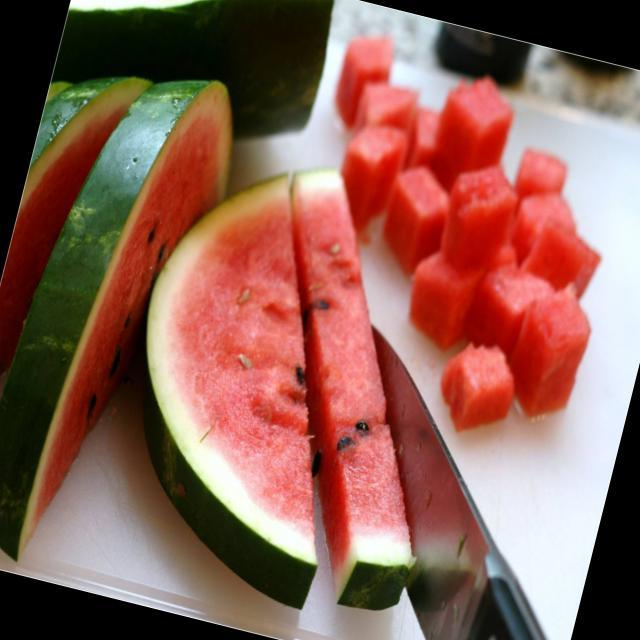APPLE: (88, 126, 414, 630), (203, 157, 507, 622), (0, 35, 212, 575), (0, 56, 121, 449)
